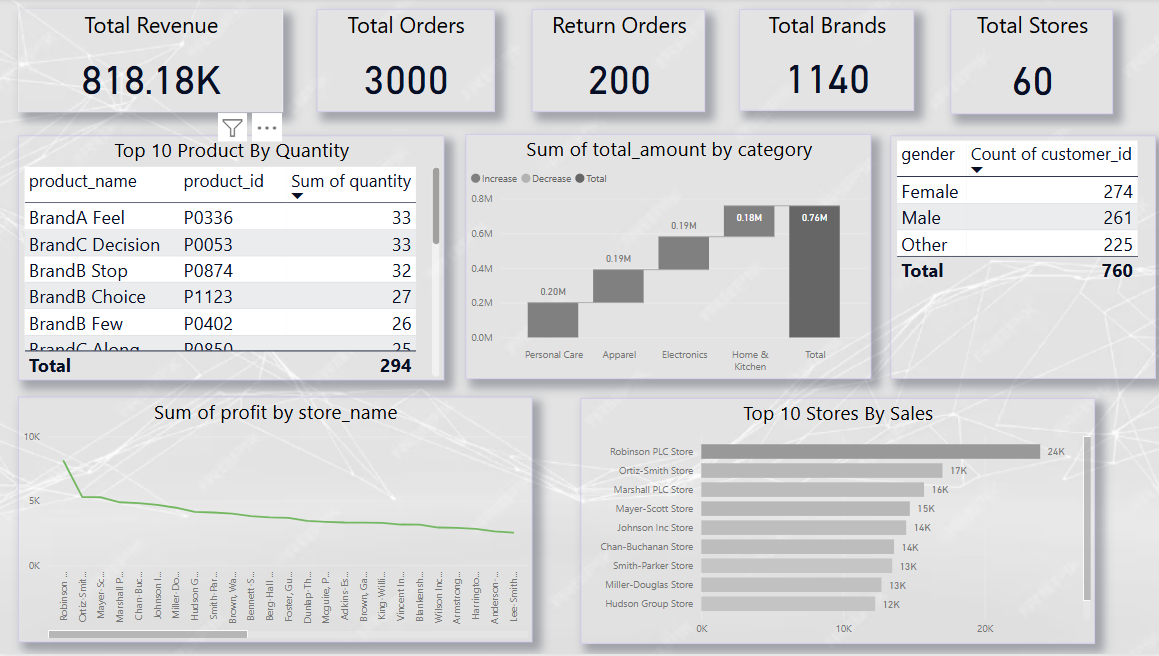

The dashboard page shown, as its layout file describes it:
{"tool":"powerbi","page":{"name":"3","canvas":[1280,720],"ordinal":2},"visuals":[{"type":"tableEx","title":"Top 10 Product By Quantity","fields":{"Values":["Products.product_name","Products.product_id","Sum(Sales_data.quantity)"]},"box":[22,150.9,467.9,269],"z":0},{"type":"lineChart","fields":{"Category":["Stores.store_name"],"Y":["Sum(Sales_data.profit)"]},"box":[21.4,437.6,564.5,269.4],"z":1000},{"type":"barChart","title":"Top 10 Stores By Sales","fields":{"Category":["Stores.store_name"],"Y":["Sum(Sales_data.total_amount)"]},"box":[640,439,564.5,269.4],"z":2000},{"type":"card","title":"Return Orders","fields":{"Values":["CountNonNull(Returns.Total_return_order)"]},"box":[585.9,12.3,190.7,112.5],"z":3000},{"type":"card","title":"Total Stores","fields":{"Values":["CountNonNull(Stores.store_id)"]},"box":[1045.6,12.3,178.4,115.3],"z":4000},{"type":"card","title":"Total Orders","fields":{"Values":["CountNonNull(Sales_data.order_id)"]},"box":[349.9,12.3,194.9,112.5],"z":5000},{"type":"card","title":"Total Brands","fields":{"Values":["CountNonNull(Products.brand)"]},"box":[813.7,12.3,192.1,111.1],"z":6000},{"type":"tableEx","fields":{"Values":["Customer.gender","Customer.customer_id"]},"box":[979.8,150.9,290.9,267.6],"z":7000},{"type":"waterfallChart","fields":{"Category":["Products.category"],"Y":["Sum(Sales_data.total_amount)"]},"box":[513.2,149.6,446,269],"z":8000},{"type":"card","title":"Total Revenue","fields":{"Values":["Sum(Sales_data.total_amount)"]},"box":[22,12.3,290.9,112.5],"z":9000}]}

Visuals, with their boxes in screenshot pixels (x1, y1, x2, y2), scaled from the page's 1280x720 canvas onto the 1159x656 screenshot:
"Top 10 Product By Quantity" tableEx: box(20, 137, 444, 383)
lineChart - Stores.store_name x Sum(Sales_data.profit): box(19, 399, 531, 644)
"Top 10 Stores By Sales" barChart: box(580, 400, 1091, 645)
"Return Orders" card: box(531, 11, 703, 114)
"Total Stores" card: box(947, 11, 1108, 116)
"Total Orders" card: box(317, 11, 493, 114)
"Total Brands" card: box(737, 11, 911, 112)
tableEx - Customer.gender x Customer.customer_id: box(887, 137, 1151, 381)
waterfallChart - Products.category x Sum(Sales_data.total_amount): box(465, 136, 869, 381)
"Total Revenue" card: box(20, 11, 283, 114)
